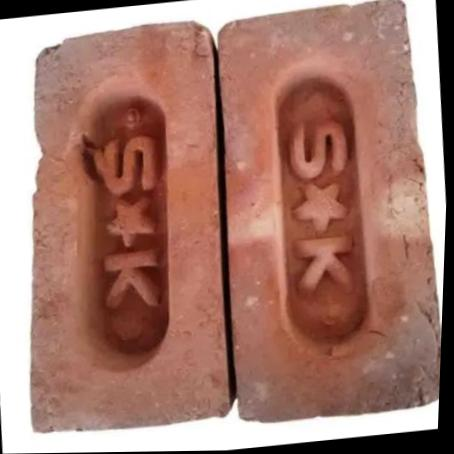brick: (199, 0, 454, 430), (0, 16, 245, 436)
